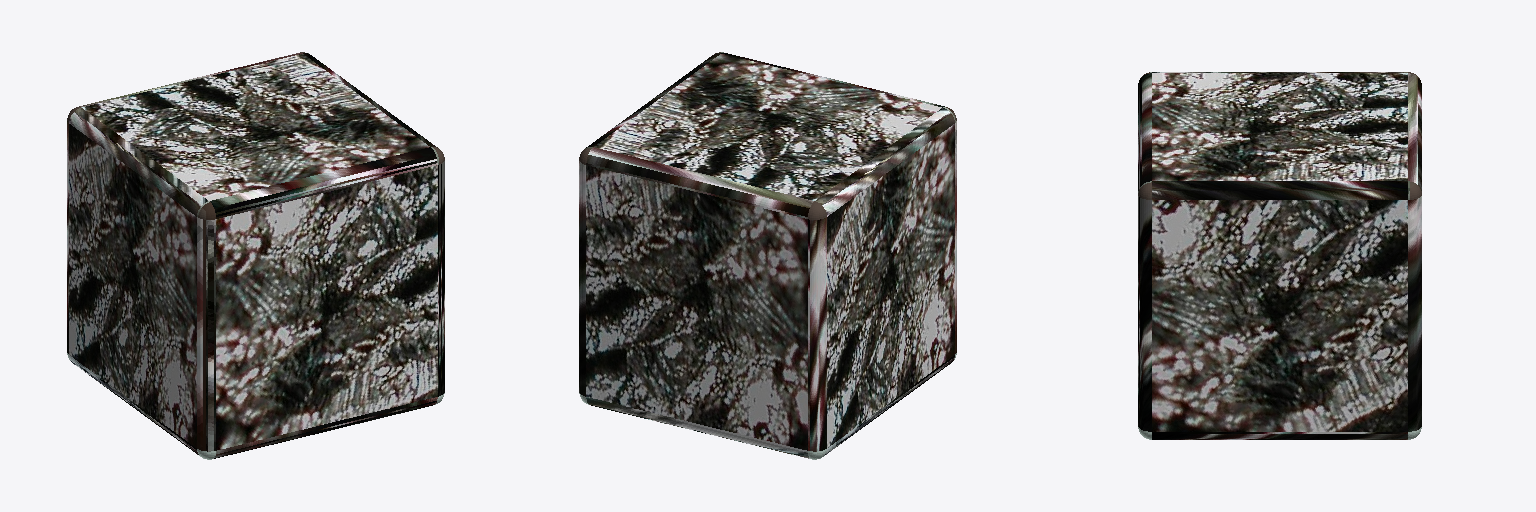
3 views of the same model, side by side, from view 1: azimuth 30°, elevation 25°; view 2: azimuth 150°, elevation 25°; view 3: azimuth 270°, elevation 25° (orthographic).
Visible parts, largest first — view 1: Cube; view 2: Cube; view 3: Cube.
Part boxes in pixels (bbox=[...]): Cube: bbox=[67, 52, 444, 459]; Cube: bbox=[579, 52, 956, 459]; Cube: bbox=[1138, 72, 1421, 439].
Bounding box in the file's own units: 2 × 2 × 2.
1 materials, 1 textured.